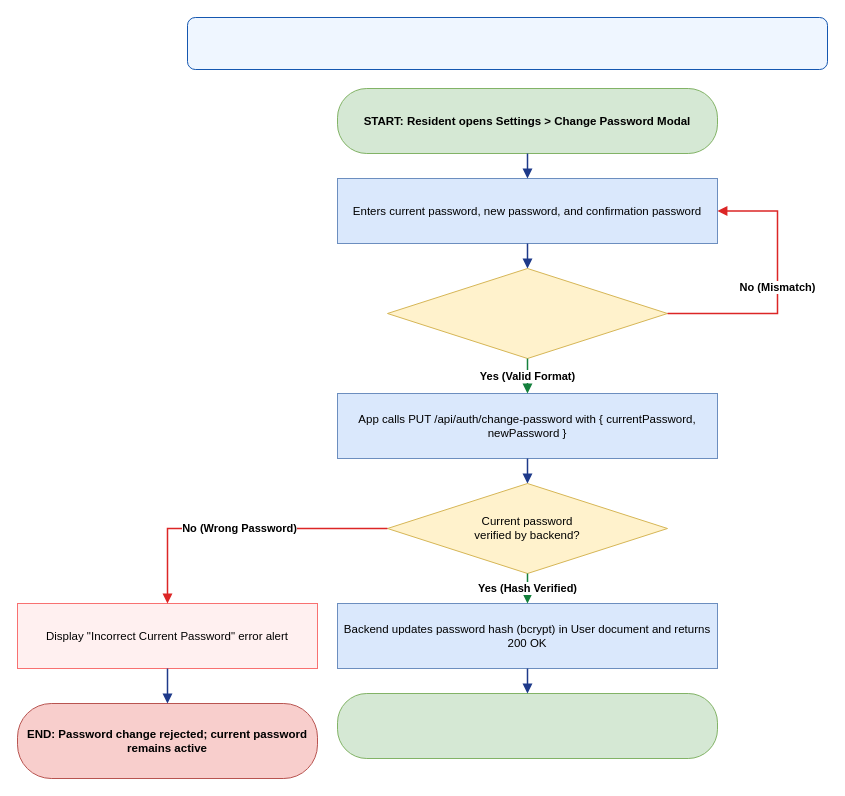
This 845x796 diagram has some shape labels left out. The centre of each missing label's shape, as x and y in pixels:
"END: Password updated successfully; success alert shown" goes at [527,725].
"New password meets length & match rules?" goes at [527,313].
"PF-R10: Process Flow - Change Password Actor: Resident Linked Use Case: UC-R10" goes at [507,43].
